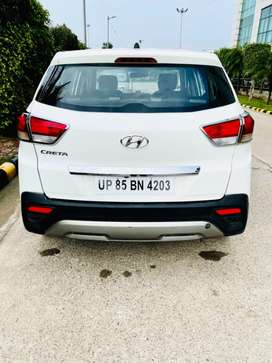UP85BN4203: (94, 176, 174, 194)
